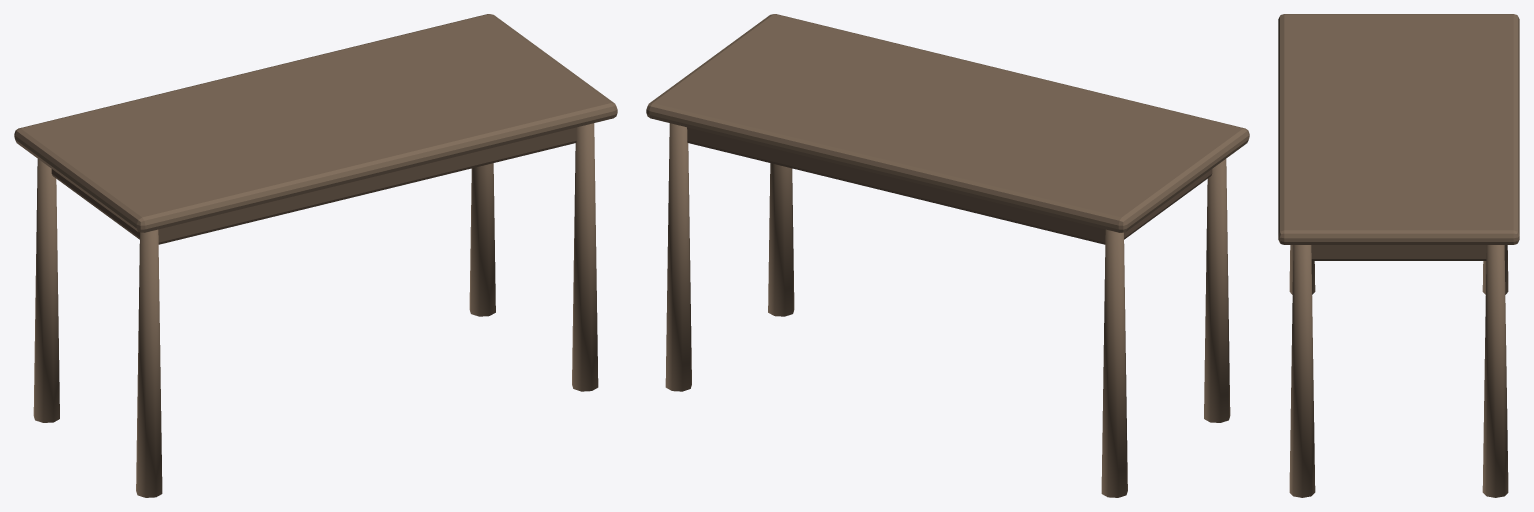
The model's file is table_1_3x0_6x0_74.glb.
3 renders of one model, left to right at view 1: azimuth 30°, elevation 25°; view 2: azimuth 150°, elevation 25°; view 3: azimuth 270°, elevation 25°, orthographic. The views are drawn at different scales.
Parts seen in each view (by area): view 1: table_1_3x0_6x0_74; view 2: table_1_3x0_6x0_74; view 3: table_1_3x0_6x0_74.
Boxes of the visible parts, x1,y1,x2,y2 form: table_1_3x0_6x0_74: (14, 14, 617, 497); table_1_3x0_6x0_74: (646, 14, 1249, 497); table_1_3x0_6x0_74: (1278, 14, 1519, 497).
Size of the model in its own units: 1.3 by 0.74 by 0.6.
